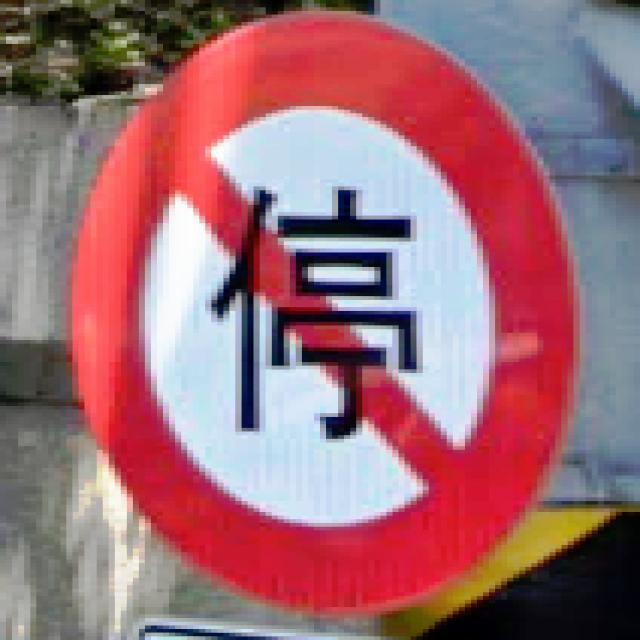nopark: (67, 7, 586, 618)
